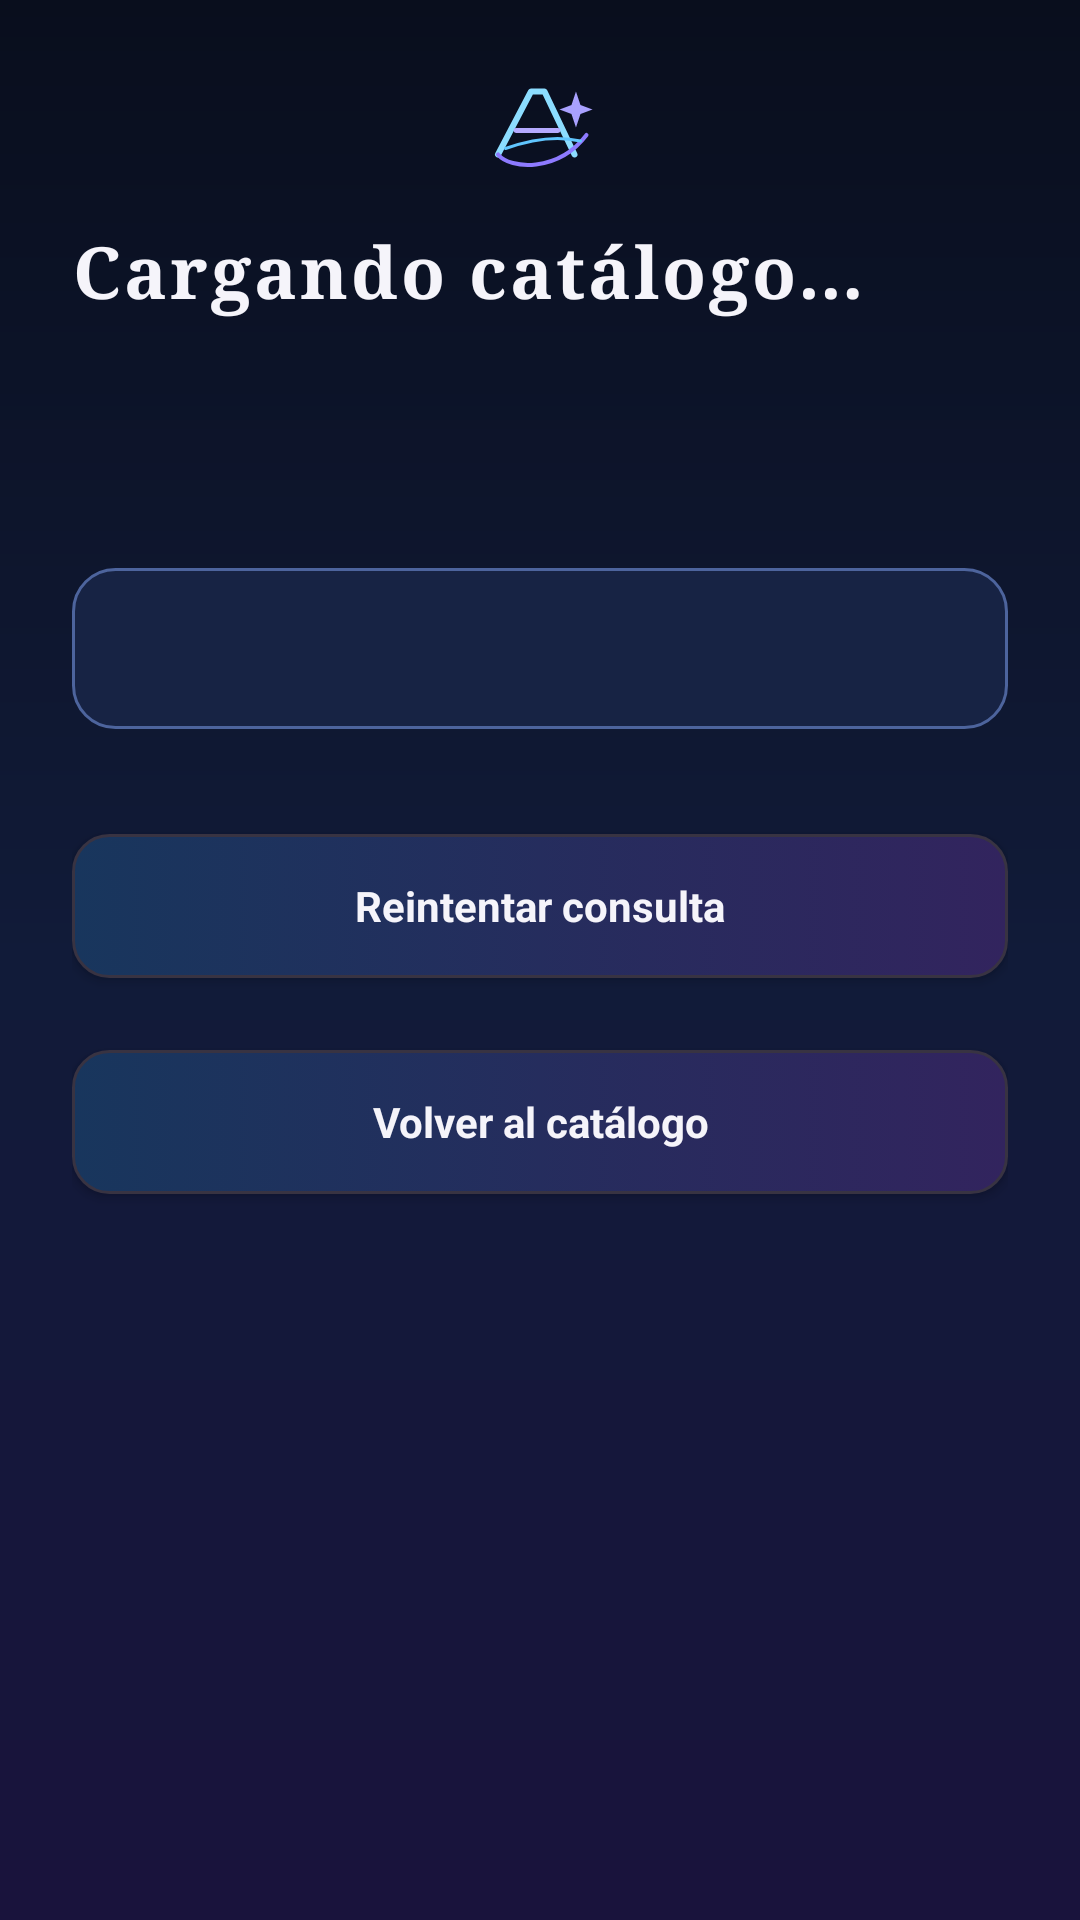

Icon bounding boxes for this 1080×1920 phone screenshot, format (x1, y1, x2, y2):
asterion crest: (495, 88, 593, 167)
